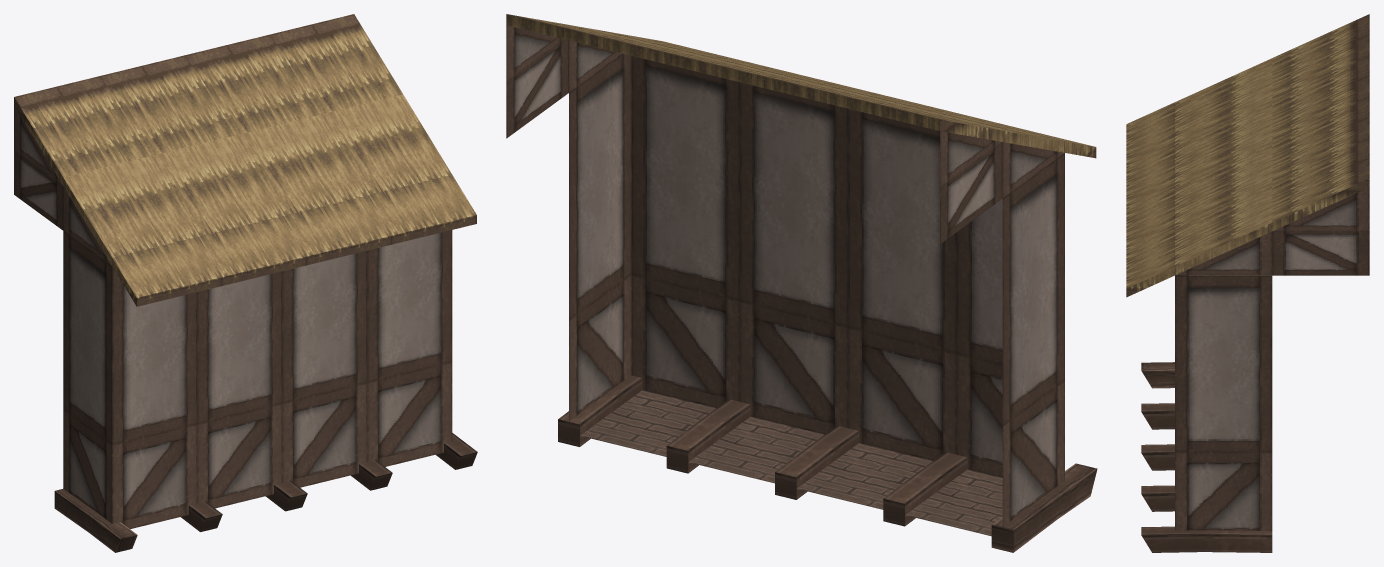
The model's file is roof_straw_stickout_large.glb.
3 renders of one model, left to right at view 1: azimuth 30°, elevation 25°; view 2: azimuth 150°, elevation 25°; view 3: azimuth 270°, elevation 25°, orthographic. The views are drawn at different scales.
Visible parts, largest first — view 1: roof_straw_stickout_large; view 2: roof_straw_stickout_large; view 3: roof_straw_stickout_large.
Boxes of the visible parts, box(x1,y1,x2,y2) form: roof_straw_stickout_large: box(14, 14, 477, 552); roof_straw_stickout_large: box(506, 14, 1097, 552); roof_straw_stickout_large: box(1126, 14, 1369, 552).
Bounding box in the file's own units: 4.2 × 4.2 × 2.5.
Materials: 1 (1 with a texture image).
